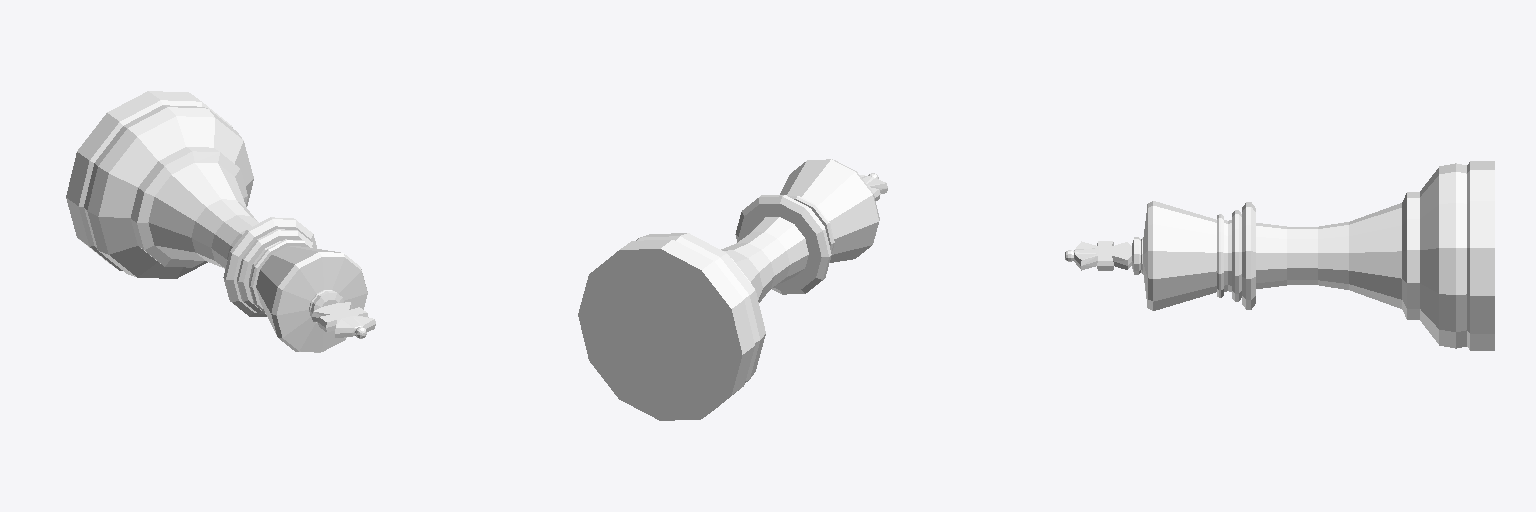
File: testing.obj
3 renders of one model, left to right at view 1: azimuth 30°, elevation 25°; view 2: azimuth 150°, elevation 25°; view 3: azimuth 270°, elevation 25°, orthographic.
Parts seen in each view (by area): view 1: polySurface6 PiezasAjedrez:Mesh; view 2: polySurface6 PiezasAjedrez:Mesh; view 3: polySurface6 PiezasAjedrez:Mesh.
Part boxes in pixels (x1,y1,x2,y2): polySurface6 PiezasAjedrez:Mesh: (66,91,375,352); polySurface6 PiezasAjedrez:Mesh: (578,159,887,420); polySurface6 PiezasAjedrez:Mesh: (1065,161,1494,350).
Bounding box in the file's own units: 4.42 × 4.42 × 10.02.